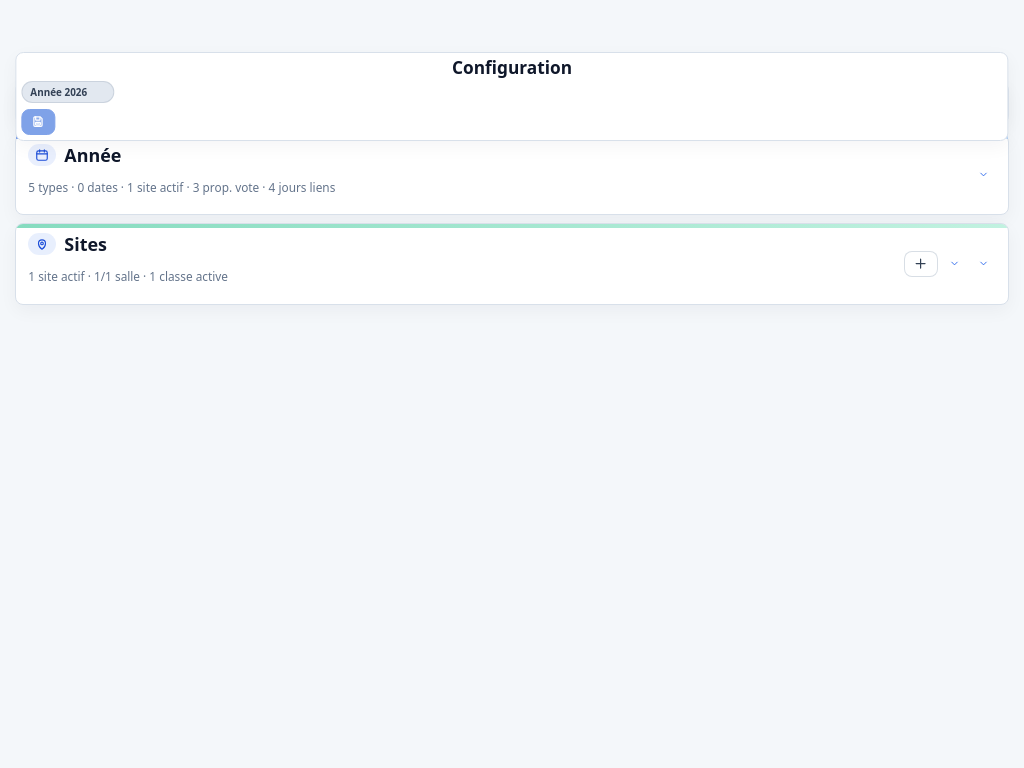
PlanningConfiguration › ouvre et replie tous les types depuis la section Types
Click the button named "Ouvrir le bloc année". click: (984, 175)
box: x1=972 y1=163 x2=996 y2=187
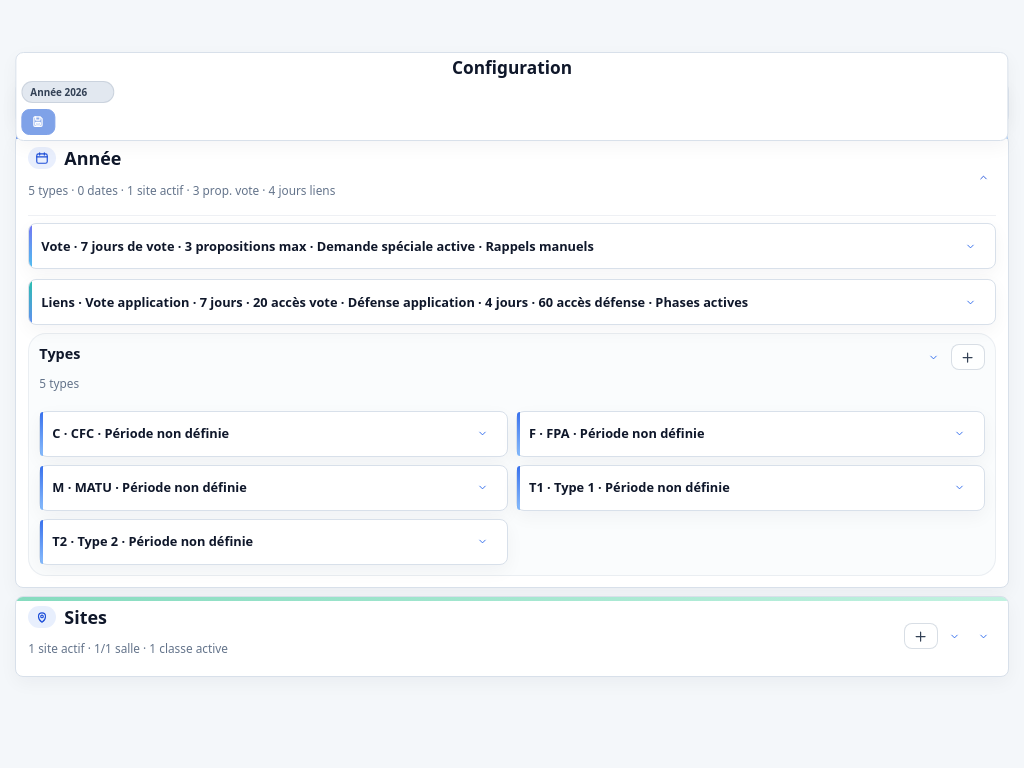
Click the button named "Ouvrir tous les types de l'année". click: (934, 357)
box: x1=922 y1=345 x2=946 y2=369
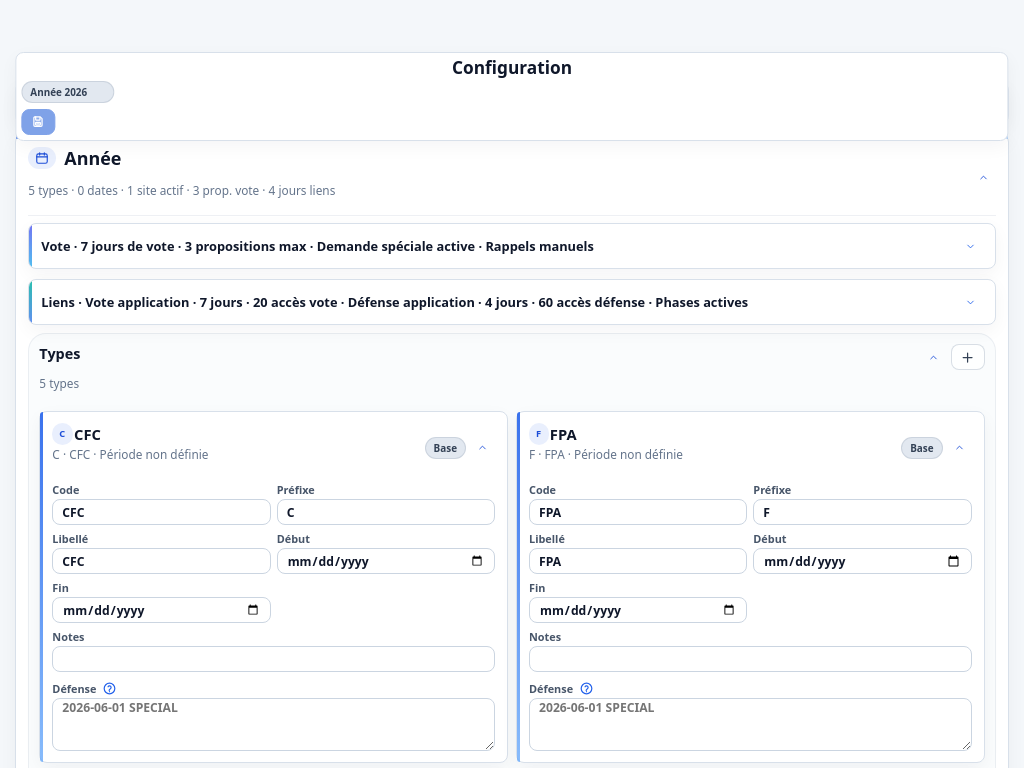
Check: the button named "Réduire le bloc année" is shown, box x1=972 y1=166 x2=996 y2=190
Click the button named "Réduire tous les types de l'année". click: (934, 357)
box: x1=922 y1=345 x2=946 y2=369
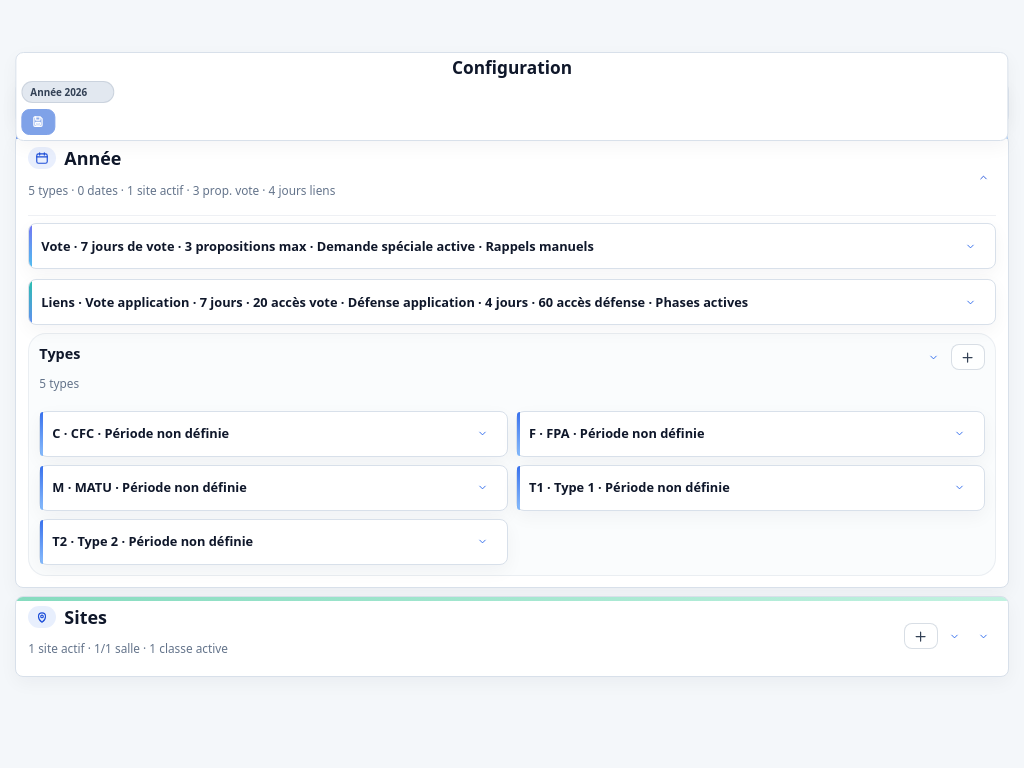
Check: the button named "Ouvrir le type Type 1" is shown, box x1=948 y1=476 x2=972 y2=500
